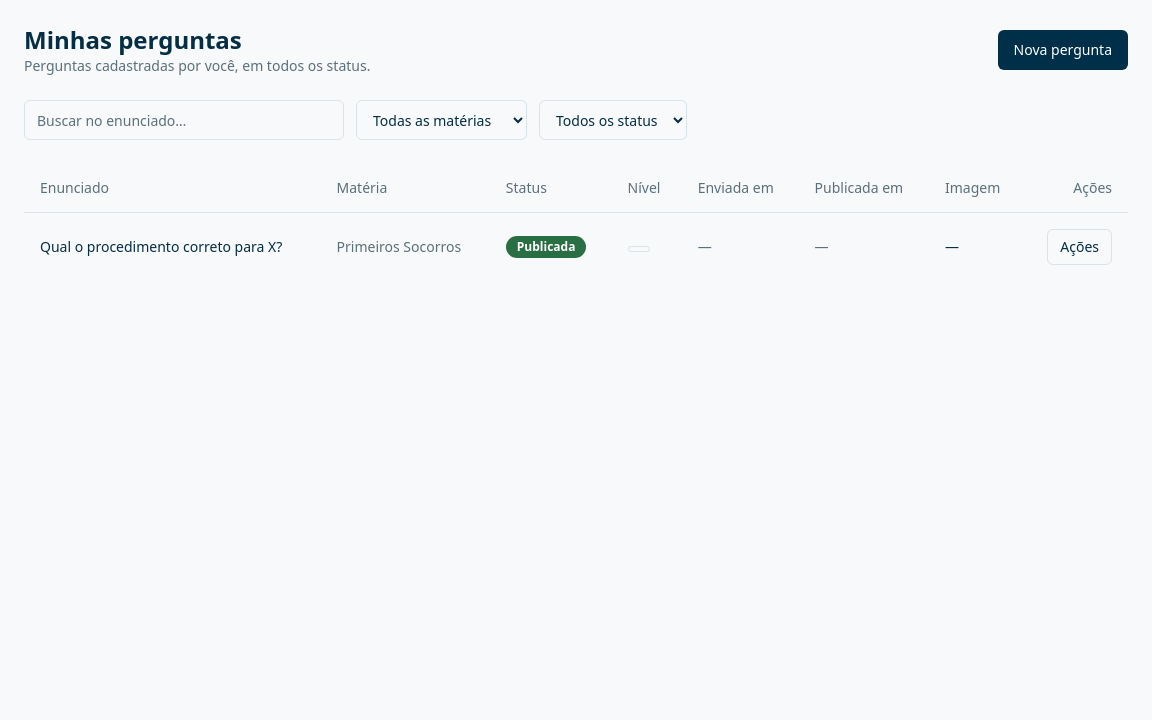
Test: PartnerQuestionsPage › mostra aviso de resubmissão ao editar pergunta publicada (CA-3)
Expected: the text "Qual o procedimento correto para X?" is shown, [24,212,320,280]
Click the button "Ações". click: (1080,246)
box: [1047,228,1112,264]
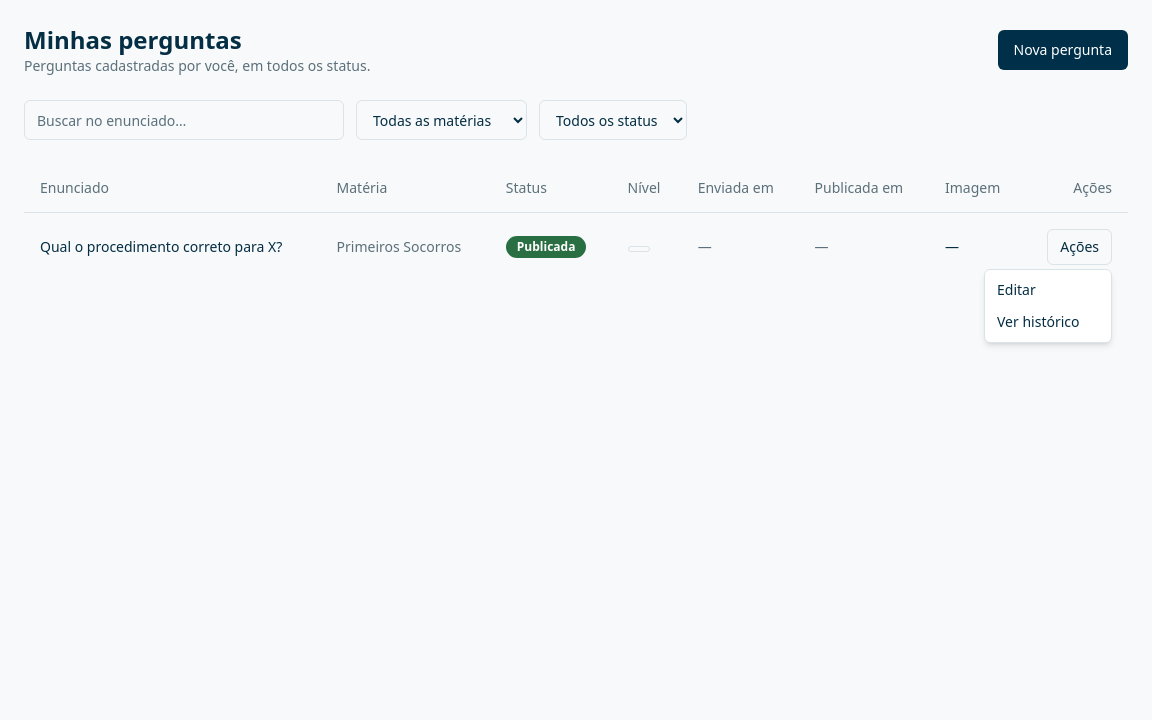
Click the menu item "Editar". click: (1016,290)
box: [997,280,1036,299]
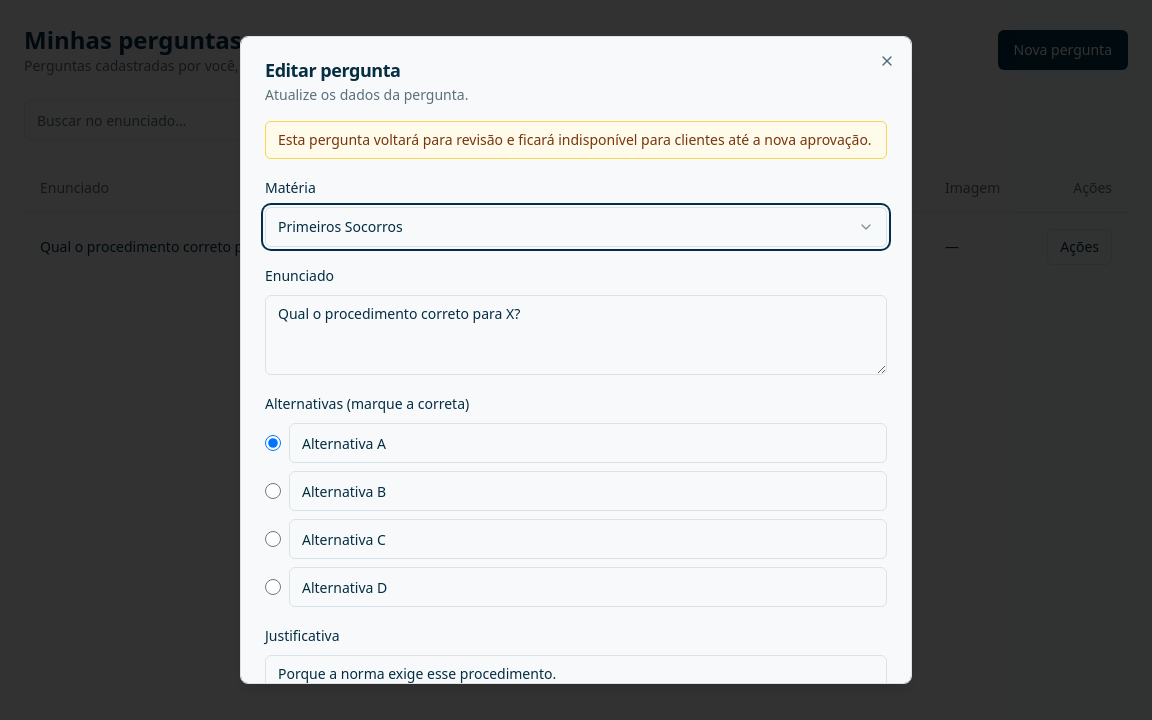
Expected: the text "Esta pergunta voltará para revisão e ficará indisponível para clientes até a nova aprovação." is shown, [278,130,872,149]
